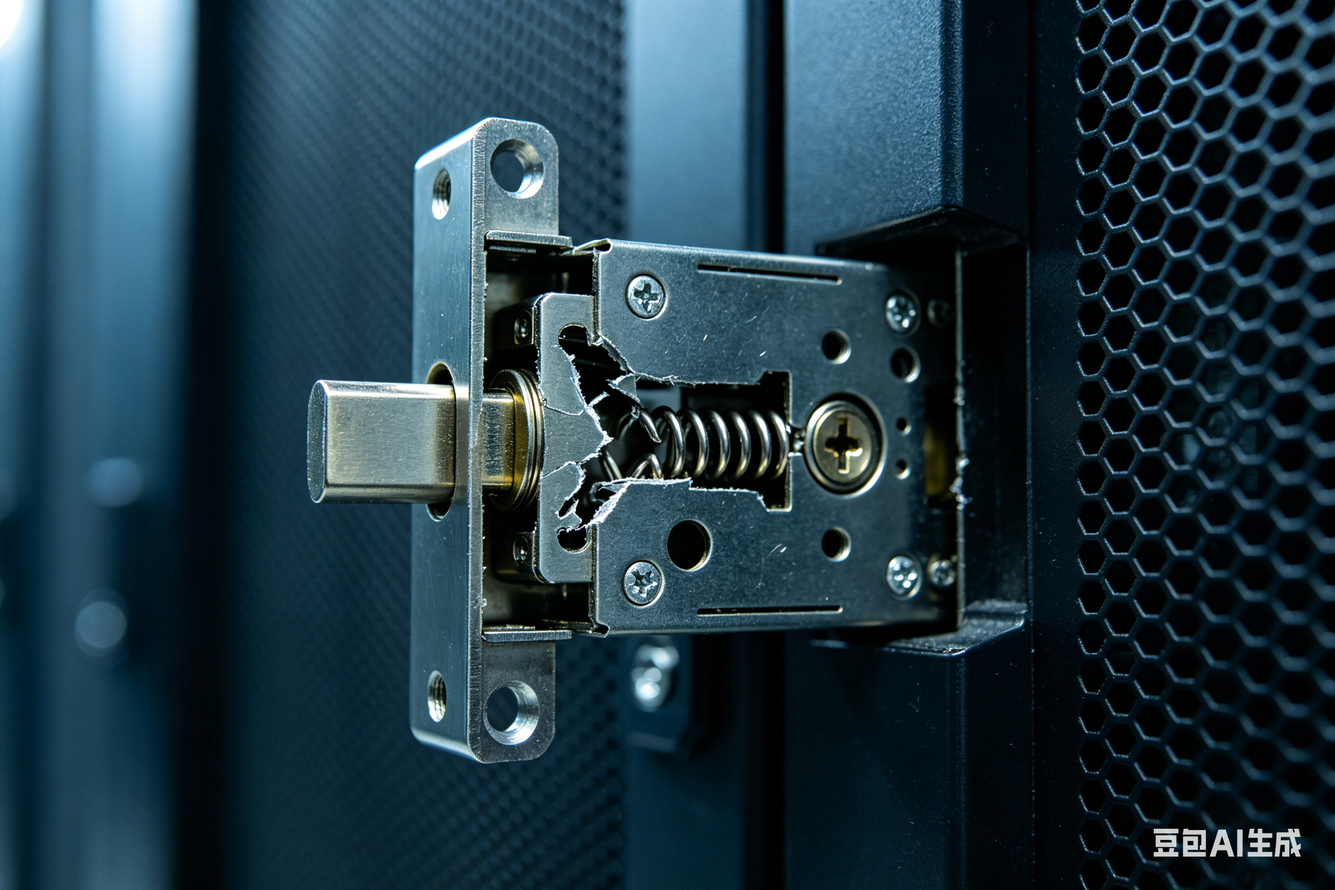BadLock: (473, 288, 639, 589)
